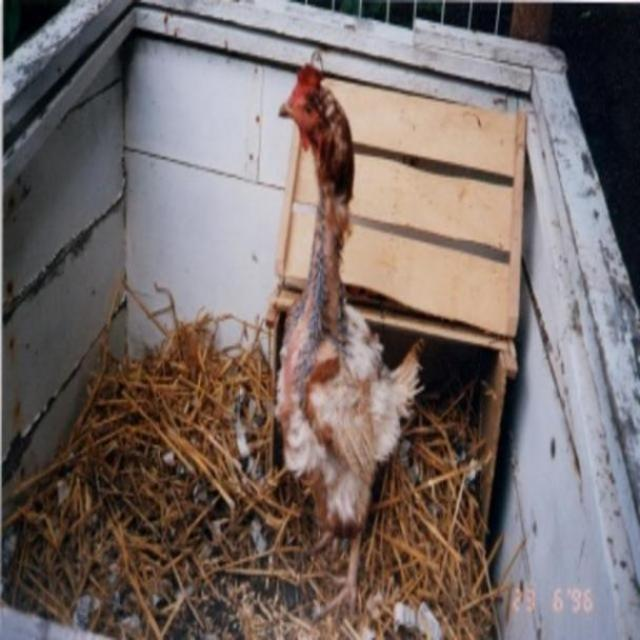Chicken: (269, 48, 418, 620)
